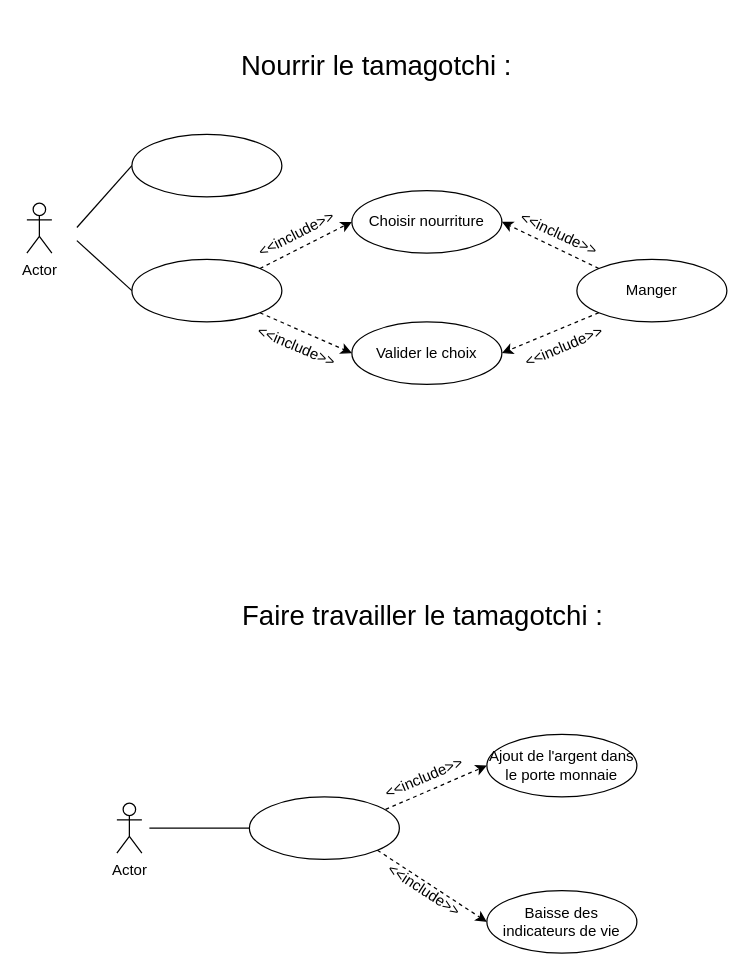
Image size: 749x975. Some labels were removed from this diagram. Here are the shapes that lost their labels. From the top down, the centre of each, then its label:
pixel 206 165: Aller dans la cuisine
pixel 206 290: Cliquez sur le panier
pixel 323 827: Cliquez sur travailler
